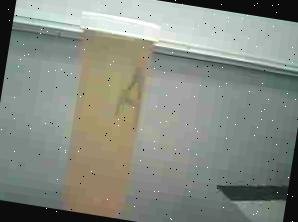Bottle A: (41, 2, 165, 221)
